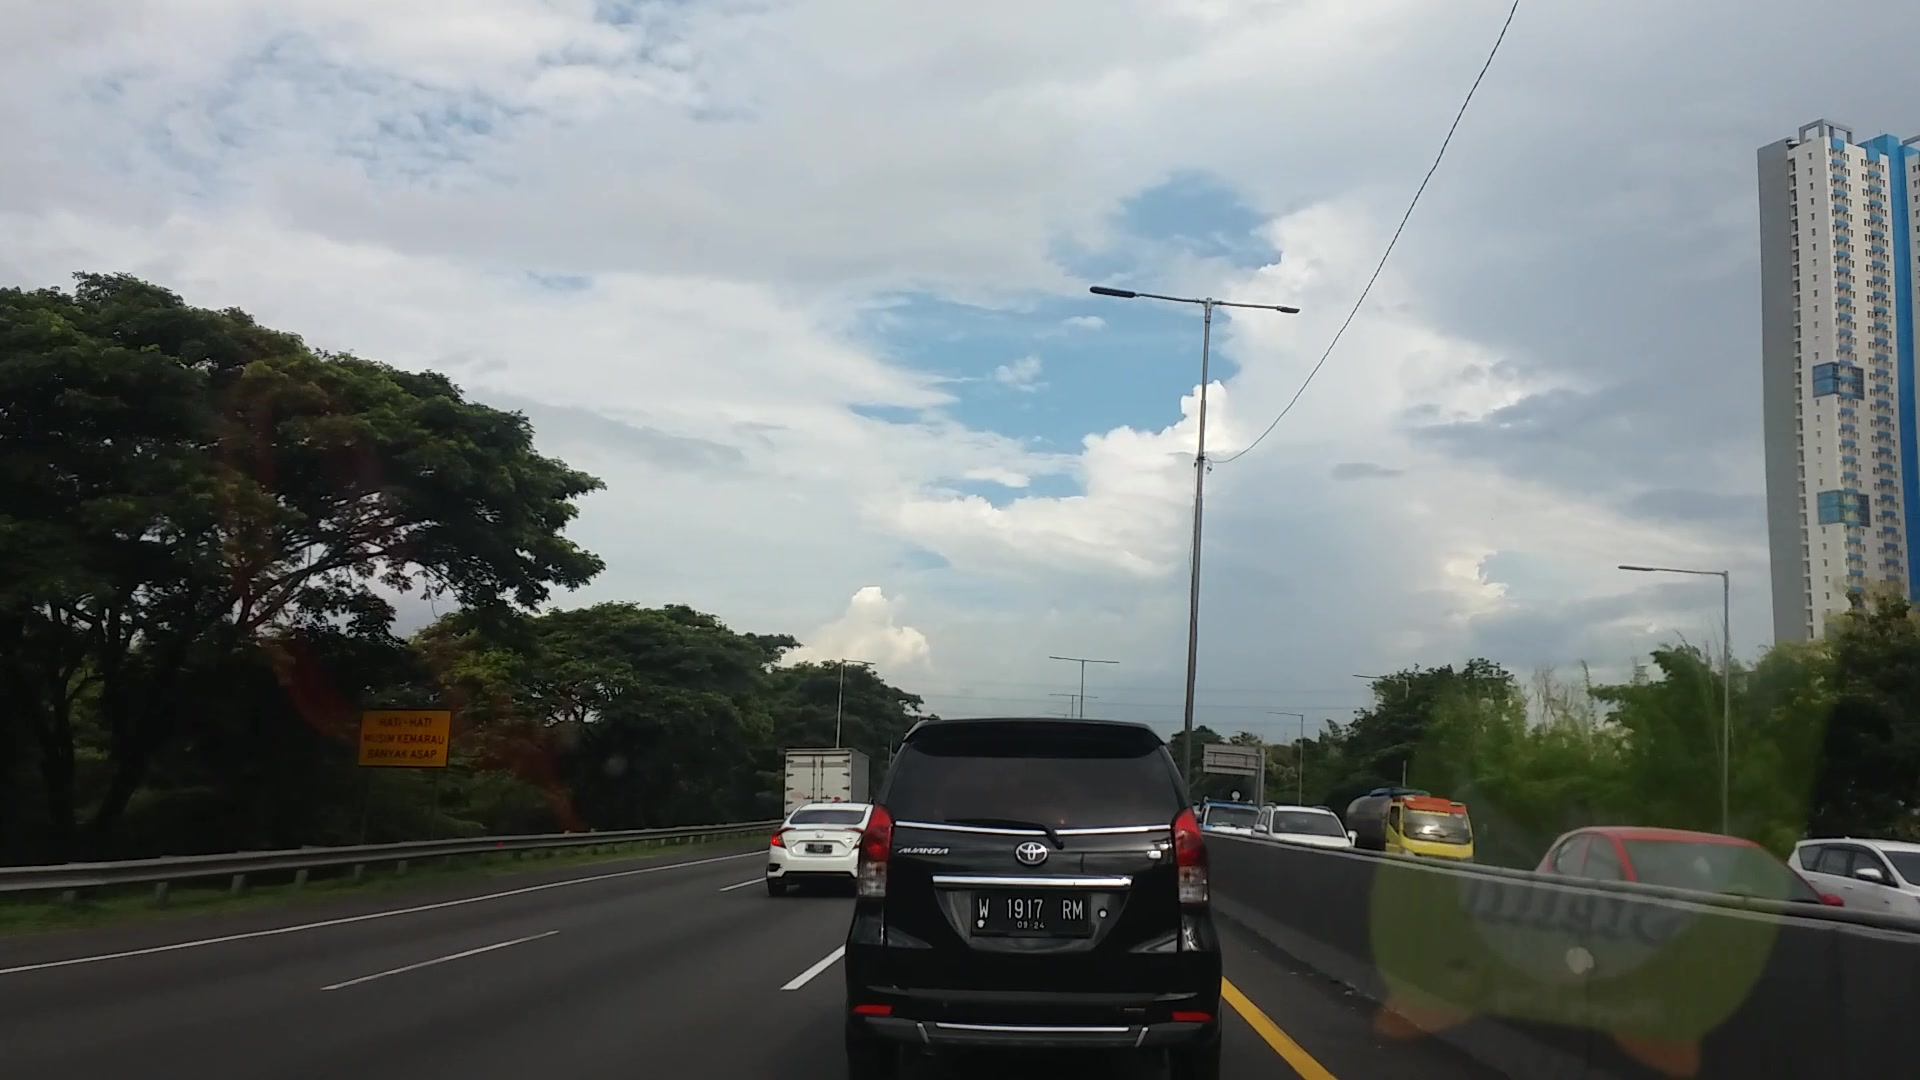plate_positive: (971, 890, 1091, 938)
